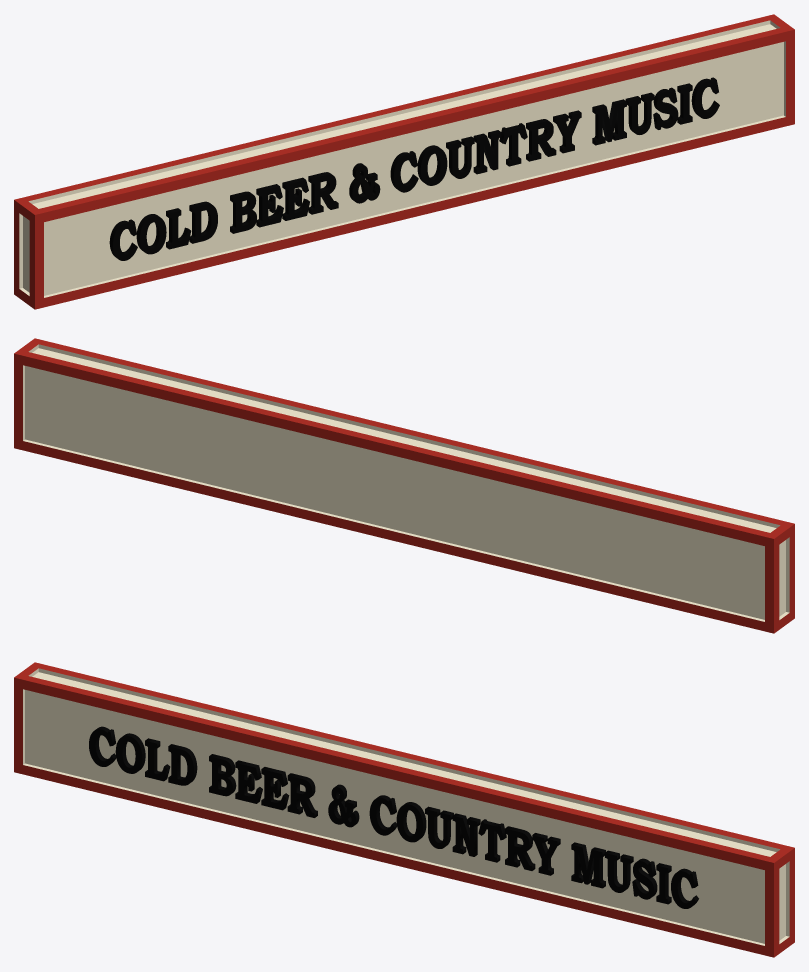
Rendered from coldBeerAndCountryMusic.glb.
The picture shows the model from 3 angles, top to bottom: view 1: azimuth 30°, elevation 25°; view 2: azimuth 150°, elevation 25°; view 3: azimuth 330°, elevation 25°; orthographic projection.
Parts seen in each view (by area): view 1: Button.009, Text.008; view 2: Button.009; view 3: Button.009, Text.008.
Part boxes in pixels (left/top/right/bottom): Button.009: left=14, top=14, right=794, bottom=309; Text.008: left=109, top=77, right=719, bottom=260; Button.009: left=14, top=338, right=794, bottom=633; Button.009: left=14, top=662, right=794, bottom=957; Text.008: left=89, top=726, right=698, bottom=908.
Bounding box in the file's own units: 10.5 × 1.25 × 0.5384.
